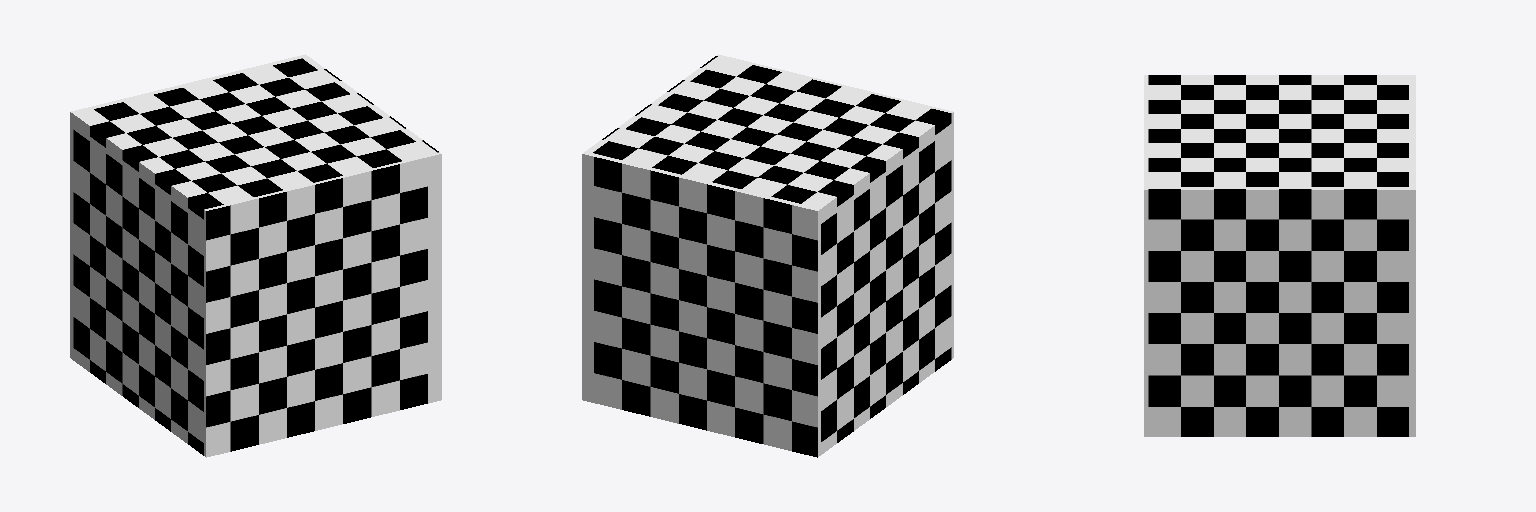
3 views of the same model, side by side, from view 1: azimuth 30°, elevation 25°; view 2: azimuth 150°, elevation 25°; view 3: azimuth 270°, elevation 25° (orthographic).
Parts seen in each view (by area): view 1: Cube; view 2: Cube; view 3: Cube.
Part boxes in pixels (x1,y1,x2,y2): Cube: (70, 54, 441, 457); Cube: (582, 54, 953, 457); Cube: (1144, 75, 1415, 436).
Size of the model in its own units: 0.4 by 0.4 by 0.4.
1 materials, 1 textured.